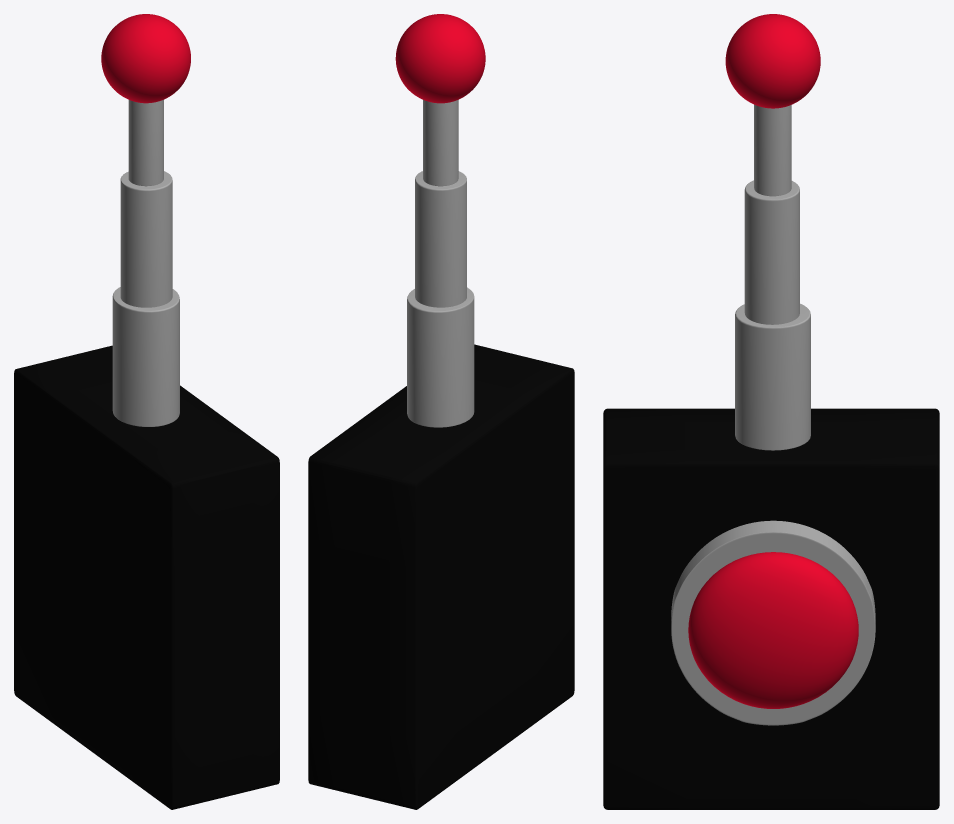
The model's file is Remote.fbx.
3 renders of one model, left to right at view 1: azimuth 30°, elevation 25°; view 2: azimuth 150°, elevation 25°; view 3: azimuth 270°, elevation 25°, orthographic. The views are drawn at different scales.
Parts seen in each view (by area): view 1: Cube.002; view 2: Cube.002; view 3: Cube.002.
Boxes of the visible parts, x1,y1,x2,y2 form: Cube.002: [14, 14, 279, 809]; Cube.002: [308, 14, 574, 809]; Cube.002: [603, 14, 939, 809].
Bounding box in the file's own units: 25.06 × 105 × 41.98.
